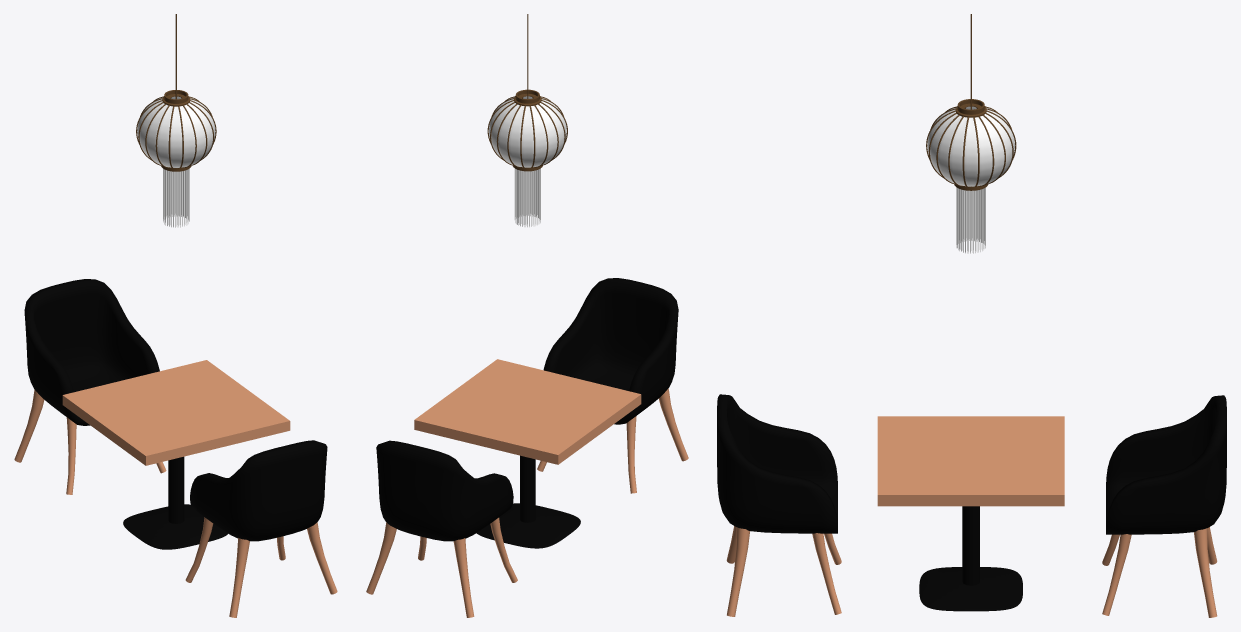
File: furnitureset.fbx
3 views of the same model, side by side, from view 1: azimuth 30°, elevation 25°; view 2: azimuth 150°, elevation 25°; view 3: azimuth 270°, elevation 25° (orthographic). The views are drawn at different scales.
Visible parts, largest first — view 1: Cube.001, Seat, Seat.001, Main, Cube, Tassle, Legs_back.001, Main.001, Plane, Legs_front.001, Legs_front, Legs_back; view 2: Cube.001, Seat.001, Seat, Main, Cube, Tassle, Legs_back, Main.001, Plane, Legs_front, Legs_front.001, Legs_back.001; view 3: Cube.001, Seat, Seat.001, Main, Cube, Tassle, Main.001, Plane, Legs_back, Legs_back.001, Legs_front.001, Legs_front.
Part boxes in pixels (x1,y1,x2,y2): Cube.001: (62, 360, 290, 465); Seat: (24, 279, 159, 425); Seat.001: (190, 440, 327, 541); Main: (137, 96, 215, 167); Cube: (123, 504, 227, 549); Tassle: (163, 168, 189, 227); Legs_back.001: (229, 522, 337, 617); Main.001: (136, 96, 216, 168); Plane: (168, 456, 184, 523); Legs_front.001: (185, 517, 285, 582); Legs_front: (66, 417, 166, 494); Legs_back: (14, 389, 44, 462); Cube.001: (414, 359, 641, 464); Seat.001: (543, 278, 678, 424); Seat: (376, 440, 513, 541); Main: (489, 96, 566, 167); Cube: (476, 503, 580, 548); Tassle: (514, 168, 540, 227); Legs_back: (366, 522, 474, 617); Main.001: (487, 96, 567, 168); Plane: (520, 455, 535, 522); Legs_front: (418, 517, 517, 582); Legs_front.001: (537, 416, 636, 493); Legs_back.001: (658, 388, 688, 461); Cube.001: (877, 416, 1064, 506); Seat: (1106, 395, 1226, 534); Seat.001: (717, 394, 837, 533); Main: (927, 106, 1014, 186); Cube: (919, 567, 1022, 611); Tassle: (956, 187, 985, 253); Main.001: (926, 106, 1016, 187); Plane: (962, 506, 979, 585); Legs_back: (1194, 527, 1217, 617); Legs_back.001: (726, 526, 749, 616); Legs_front.001: (812, 533, 841, 614); Legs_front: (1102, 534, 1131, 615).
Bounding box in the file's own units: 840 × 2859 × 2292.
